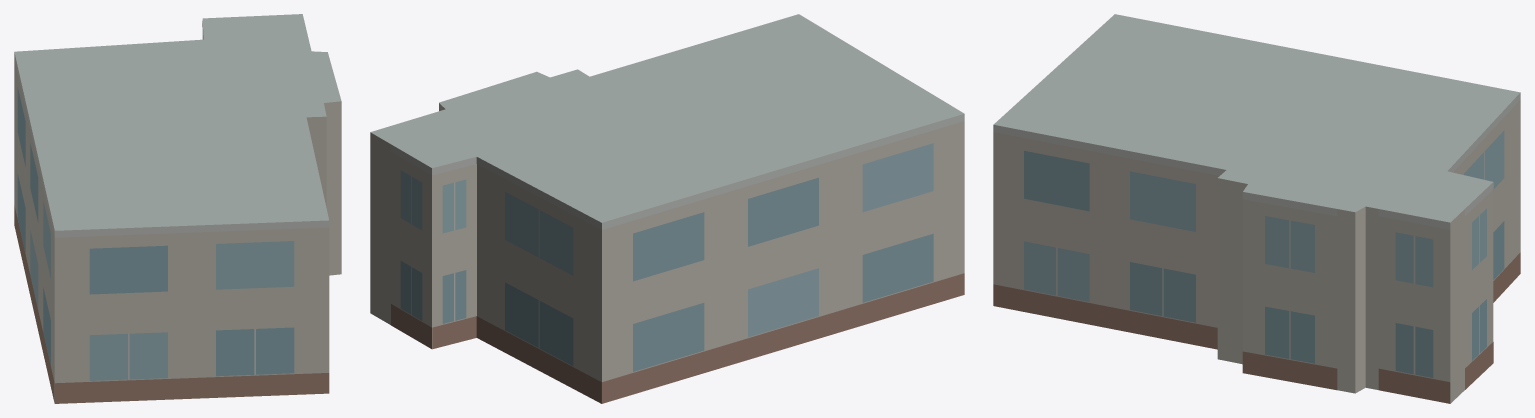
Rendered from survey-upis-32687471.glb.
3 views of the same model, side by side, from view 1: azimuth 30°, elevation 25°; view 2: azimuth 150°, elevation 25°; view 3: azimuth 270°, elevation 25° (orthographic). The views are drawn at different scales.
Parts seen in each view (by area): view 1: survey-upis-32687471.tmp; view 2: survey-upis-32687471.tmp; view 3: survey-upis-32687471.tmp.
Part boxes in pixels (x1=…): survey-upis-32687471.tmp: x1=14, y1=14, x2=341, y2=403; survey-upis-32687471.tmp: x1=370, y1=14, x2=964, y2=403; survey-upis-32687471.tmp: x1=993, y1=14, x2=1520, y2=403.
Bounding box in the file's own units: 15.06 × 6.1 × 16.09.
